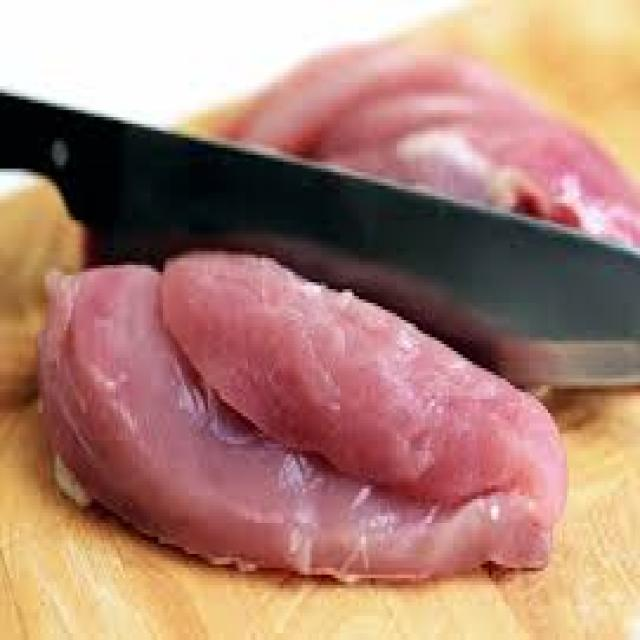chicken: (31, 245, 571, 581), (223, 37, 640, 263)
